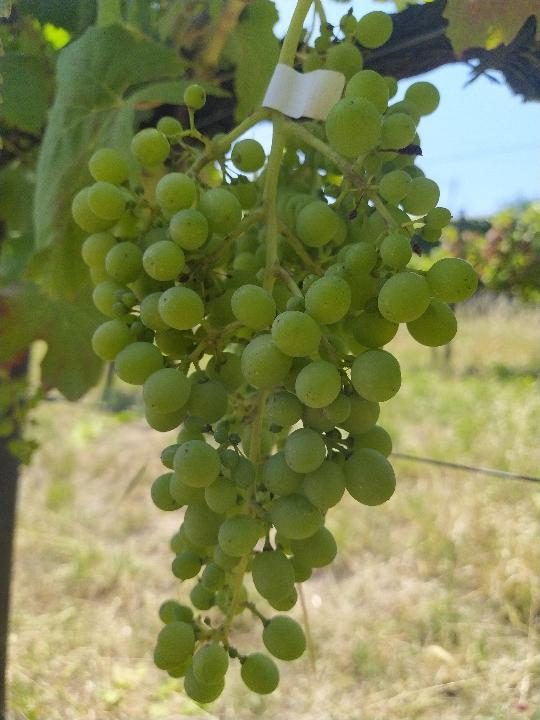grape: (71, 67, 483, 707)
